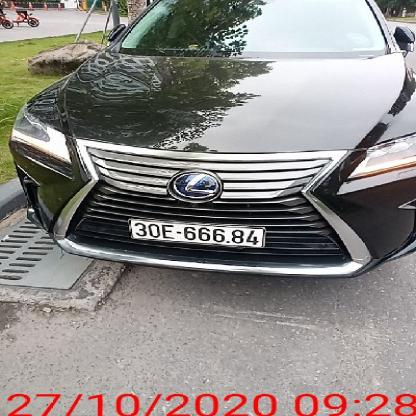biensoxe: (128, 212, 266, 252)
